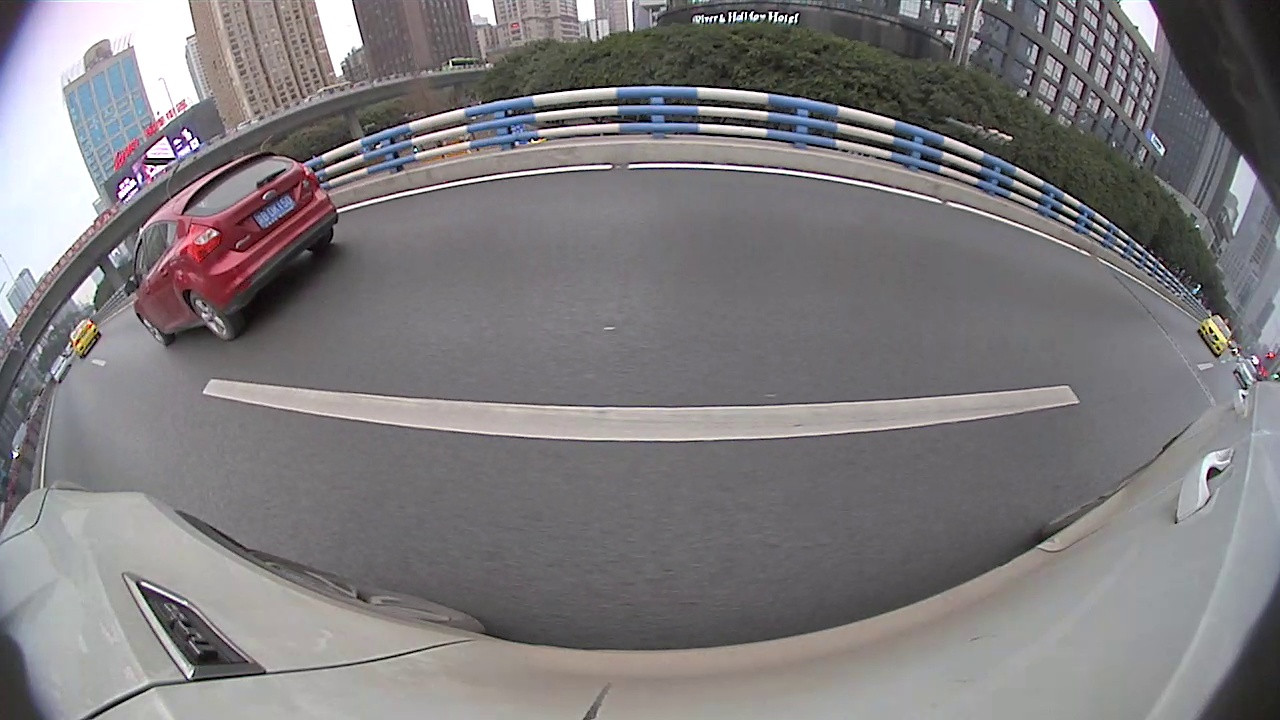car: (121, 149, 342, 350), (65, 313, 104, 358), (1198, 315, 1230, 357)
front: (137, 315, 175, 345)
rear: (187, 290, 242, 340)
